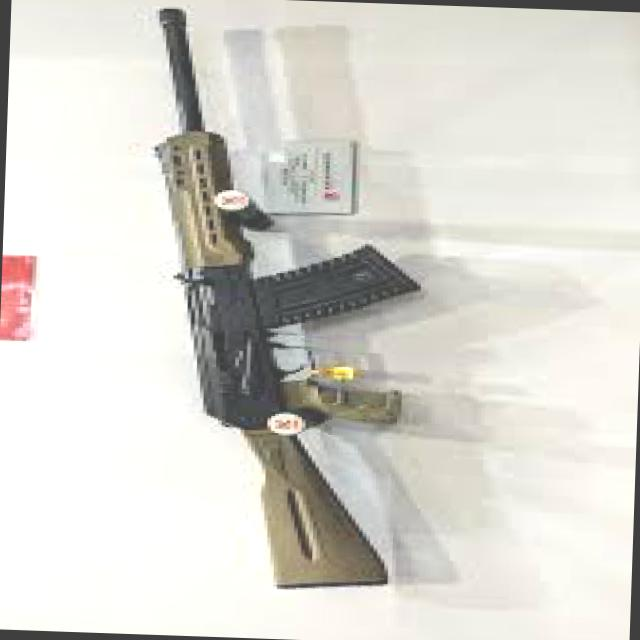long weapon: (127, 4, 444, 596)
